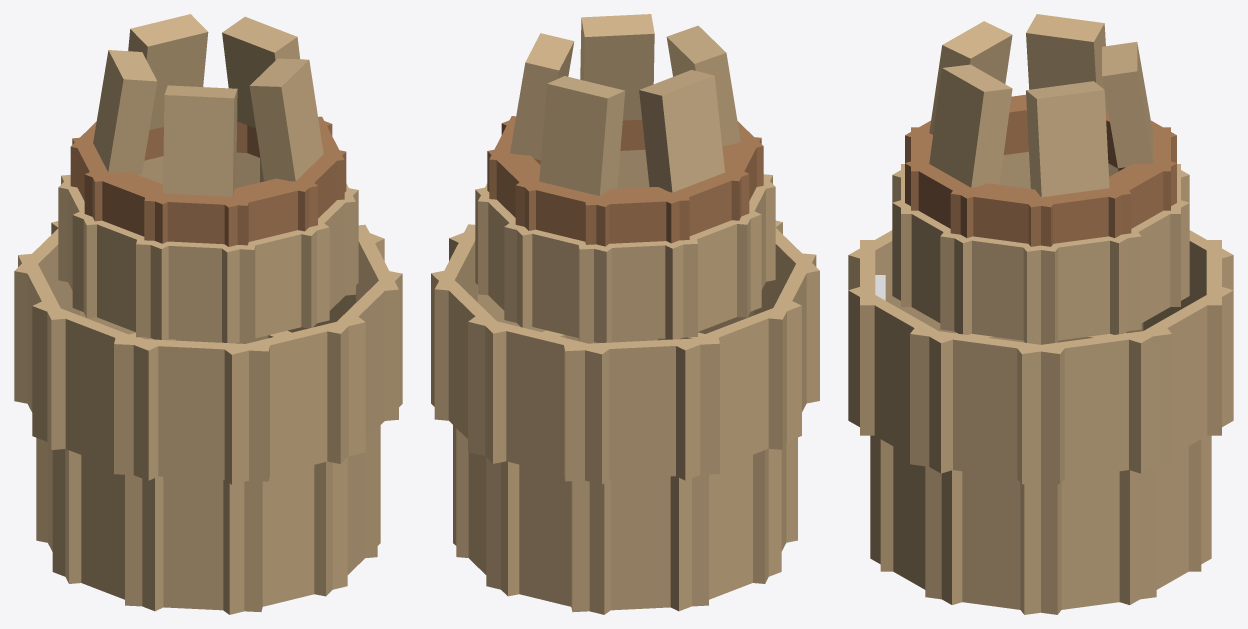
File: sack.glb
3 views of the same model, side by side, from view 1: azimuth 30°, elevation 25°; view 2: azimuth 150°, elevation 25°; view 3: azimuth 270°, elevation 25° (orthographic).
Visible parts, largest first — view 1: sack; view 2: sack; view 3: sack.
Boxes of the visible parts, <box> form: sack: <box>14,14,402,614</box>; sack: <box>431,14,819,614</box>; sack: <box>848,14,1233,614</box>.
Size of the model in its own units: 0.75 by 1.04 by 0.75.
